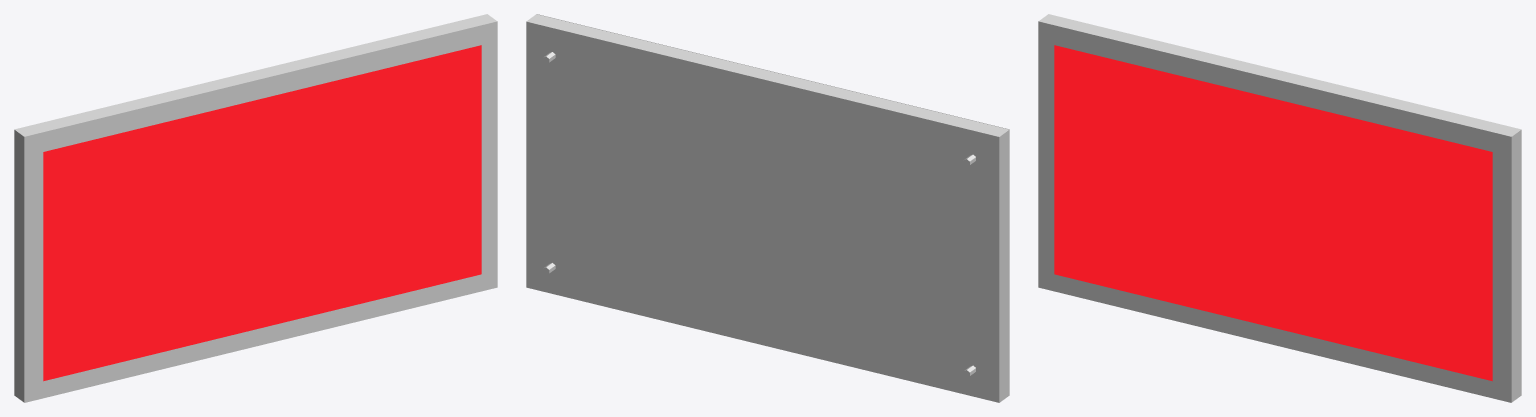
Rendered from sign_yakitori_box.glb.
The picture shows the model from 3 angles, left to right: view 1: azimuth 30°, elevation 25°; view 2: azimuth 150°, elevation 25°; view 3: azimuth 330°, elevation 25°; orthographic projection.
Parts seen in each view (by area): view 1: sign_yakitori_box_LOD0; view 2: sign_yakitori_box_LOD0; view 3: sign_yakitori_box_LOD0.
Boxes of the visible parts, x1,y1,x2,y2 form: sign_yakitori_box_LOD0: (14, 14, 497, 402); sign_yakitori_box_LOD0: (526, 14, 1009, 402); sign_yakitori_box_LOD0: (1038, 14, 1521, 402).
Size of what is drawn, in the model's own units: 1.08 by 0.58 by 0.071.
